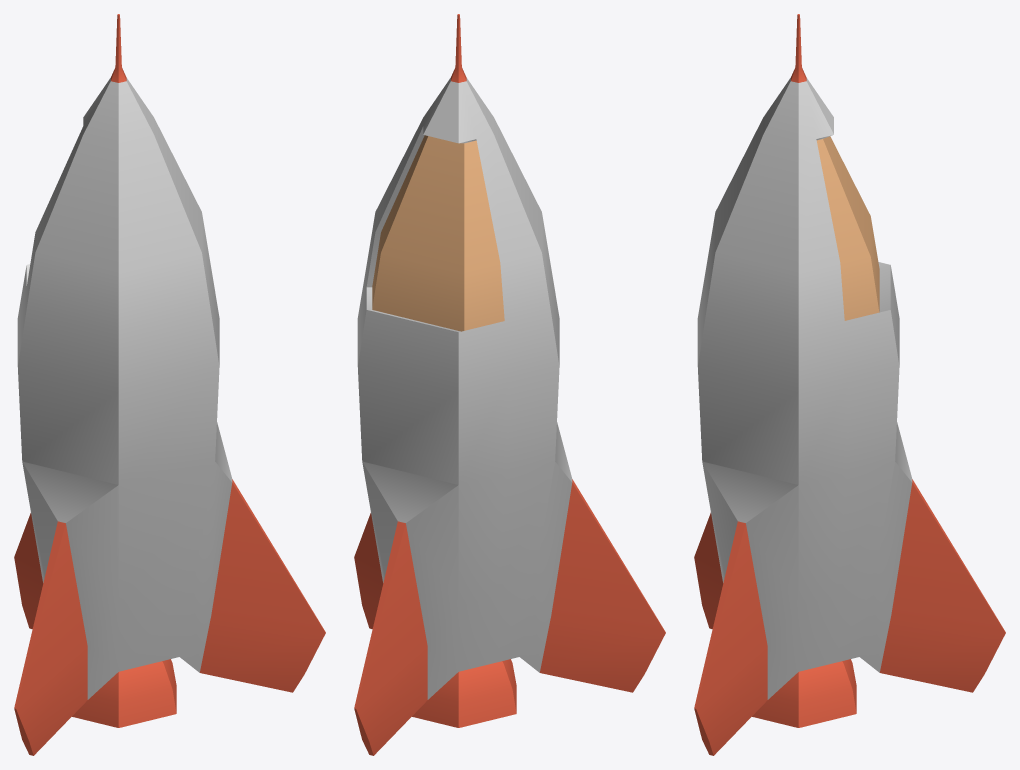
The model's file is cohete.glb.
3 views of the same model, side by side, from view 1: azimuth 30°, elevation 25°; view 2: azimuth 150°, elevation 25°; view 3: azimuth 270°, elevation 25° (orthographic).
Visible parts, largest first — view 1: Monocoque, Wings; view 2: Monocoque, Wings, Glass; view 3: Monocoque, Wings, Glass.
Part boxes in pixels (x1,y1,x2,y2): Monocoque: (17, 77, 232, 699); Wings: (14, 14, 325, 755); Monocoque: (357, 77, 572, 699); Wings: (354, 14, 665, 755); Glass: (372, 135, 504, 331); Monocoque: (697, 77, 912, 699); Wings: (694, 14, 1005, 755); Glass: (816, 136, 879, 320).
Size of the model in its own units: 88.39 by 186 by 76.55.
